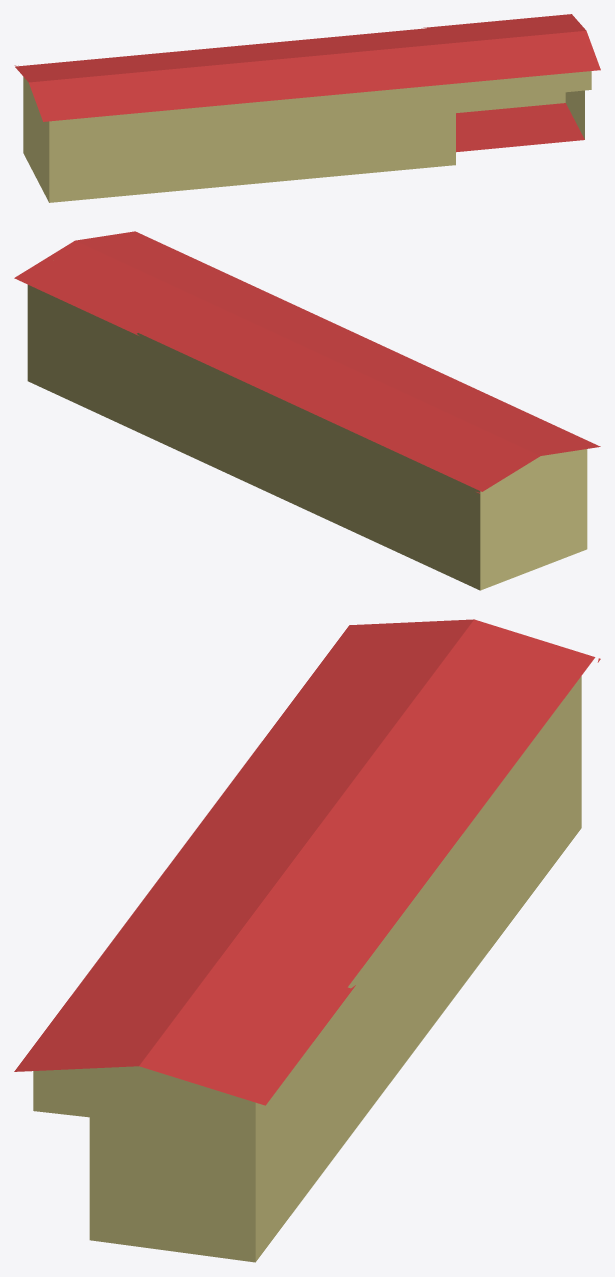
3 renders of one model, top to bottom at view 1: azimuth 30°, elevation 25°; view 2: azimuth 150°, elevation 25°; view 3: azimuth 270°, elevation 25°, orthographic. The views are drawn at different scales.
Size of the model in its own units: 73.83 by 38.12 by 13.43.
